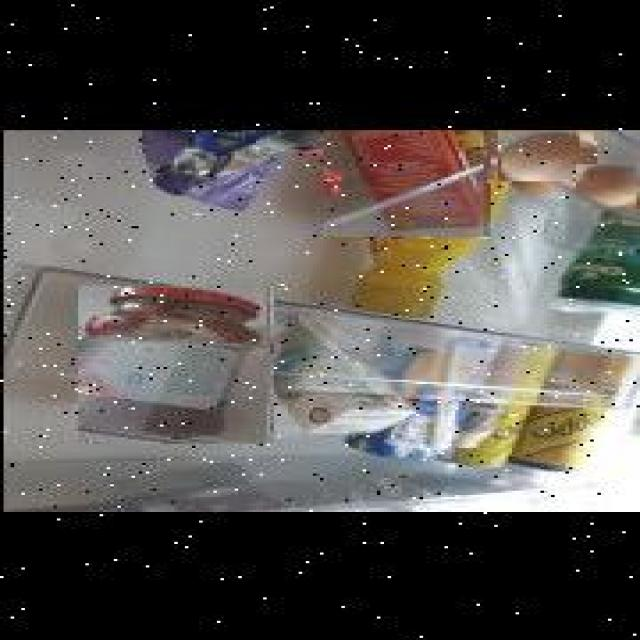egg: (498, 128, 594, 179), (576, 162, 640, 207)
marmelade: (78, 284, 270, 442)
tomato_sauce: (324, 128, 487, 235)
